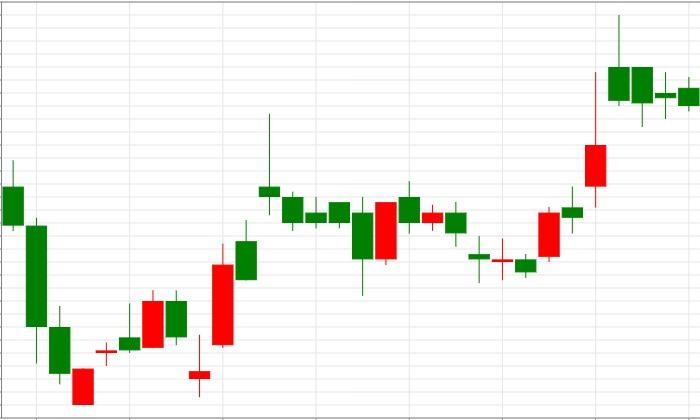shooting_star_fall: (516, 13, 629, 278)
